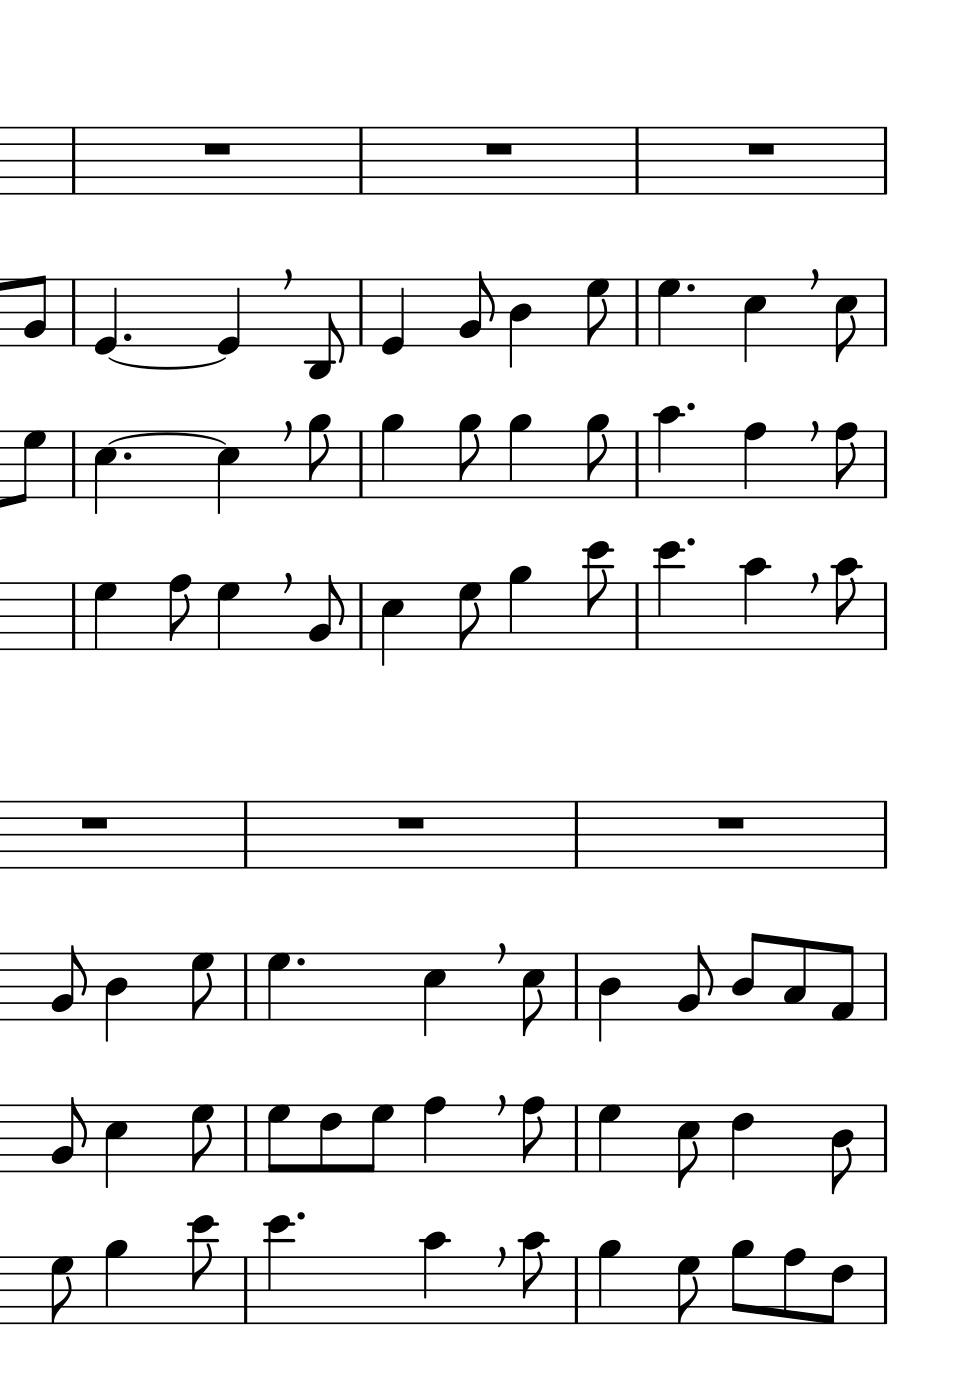4_0: (214, 276, 243, 357), (91, 277, 119, 357), (379, 277, 406, 357)
4_10: (739, 556, 769, 652), (419, 1230, 449, 1327), (654, 404, 683, 501)
4_12: (652, 540, 685, 652), (262, 1214, 295, 1327)
4_4: (595, 950, 622, 1043), (103, 951, 128, 1043), (507, 278, 532, 369)
4_5: (740, 277, 768, 365), (420, 951, 448, 1039), (102, 1102, 128, 1190), (214, 429, 241, 516), (378, 581, 404, 667), (92, 429, 117, 517)
4_6: (728, 1103, 754, 1183)
4_7: (90, 580, 119, 651), (214, 580, 242, 650), (654, 277, 681, 349), (595, 1103, 622, 1175), (265, 951, 291, 1023)
4_8: (740, 421, 767, 501), (421, 1095, 447, 1174)
4_9: (506, 413, 533, 501), (379, 413, 405, 501), (506, 564, 532, 652), (595, 1238, 622, 1326), (102, 1238, 128, 1324)
8_-3: (307, 277, 346, 380)
8_1: (829, 942, 855, 1023)
8_10: (518, 1231, 549, 1327), (832, 557, 861, 653)
8_12: (187, 1213, 218, 1326), (583, 540, 614, 651)
8_2: (307, 573, 345, 651), (677, 944, 714, 1022), (457, 270, 494, 348), (50, 944, 87, 1021), (50, 1096, 87, 1173), (21, 273, 48, 349)
8_3: (781, 937, 808, 1023)
8_4: (731, 931, 763, 1023), (828, 1102, 854, 1196)
8_5: (832, 277, 860, 364), (673, 1103, 700, 1190), (519, 952, 545, 1038)
8_6: (823, 1255, 854, 1327), (317, 1102, 342, 1174)
8_7: (13, 429, 46, 505), (361, 1102, 393, 1173), (48, 1255, 75, 1324), (189, 1103, 215, 1173), (673, 1255, 700, 1324), (189, 951, 214, 1022), (265, 1103, 291, 1174), (584, 277, 610, 347), (456, 581, 482, 650)
8_8: (832, 421, 859, 501), (519, 1095, 546, 1174), (167, 572, 193, 652), (781, 1247, 807, 1327)
8_9: (455, 413, 483, 501), (583, 413, 610, 501), (307, 413, 332, 501), (729, 1238, 754, 1326)
Rests1: (200, 139, 234, 158), (743, 139, 778, 157), (393, 813, 428, 831), (77, 813, 111, 831), (482, 140, 517, 157), (714, 813, 747, 831)
Rests8: (279, 268, 294, 293)
Single_barline: (876, 127, 893, 194), (876, 279, 893, 346), (876, 431, 893, 497), (352, 431, 369, 496), (352, 583, 369, 649), (237, 802, 253, 867), (628, 280, 645, 345), (628, 432, 645, 496), (567, 953, 584, 1018), (877, 1256, 893, 1324), (877, 801, 893, 869), (237, 1106, 253, 1170), (876, 582, 892, 649), (877, 1105, 893, 1172), (568, 1257, 584, 1323), (66, 583, 82, 649), (568, 802, 584, 867), (352, 279, 368, 344), (568, 1105, 584, 1170), (238, 1258, 253, 1322), (238, 954, 253, 1018), (66, 279, 81, 345), (353, 128, 368, 193), (629, 128, 644, 193), (66, 432, 81, 496), (629, 583, 644, 648), (878, 953, 892, 1021), (66, 127, 80, 193)
Slur: (105, 356, 227, 370), (106, 433, 234, 445)
dot: (683, 536, 697, 550), (683, 281, 697, 295), (683, 400, 696, 415), (120, 330, 133, 344), (120, 450, 133, 463), (294, 955, 307, 969), (294, 1210, 307, 1224)
